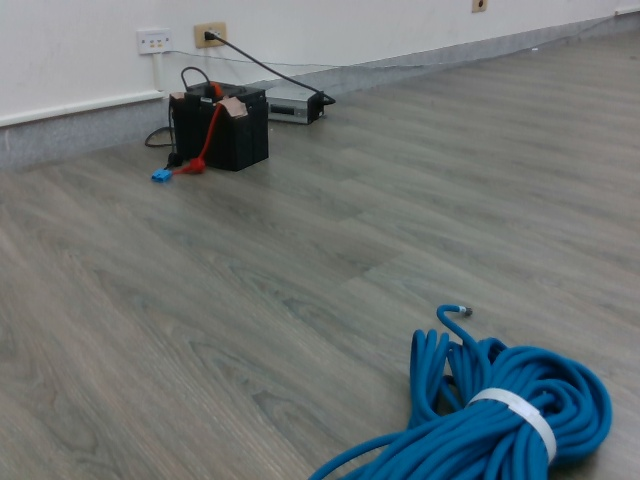rope: (302, 301, 617, 480)
